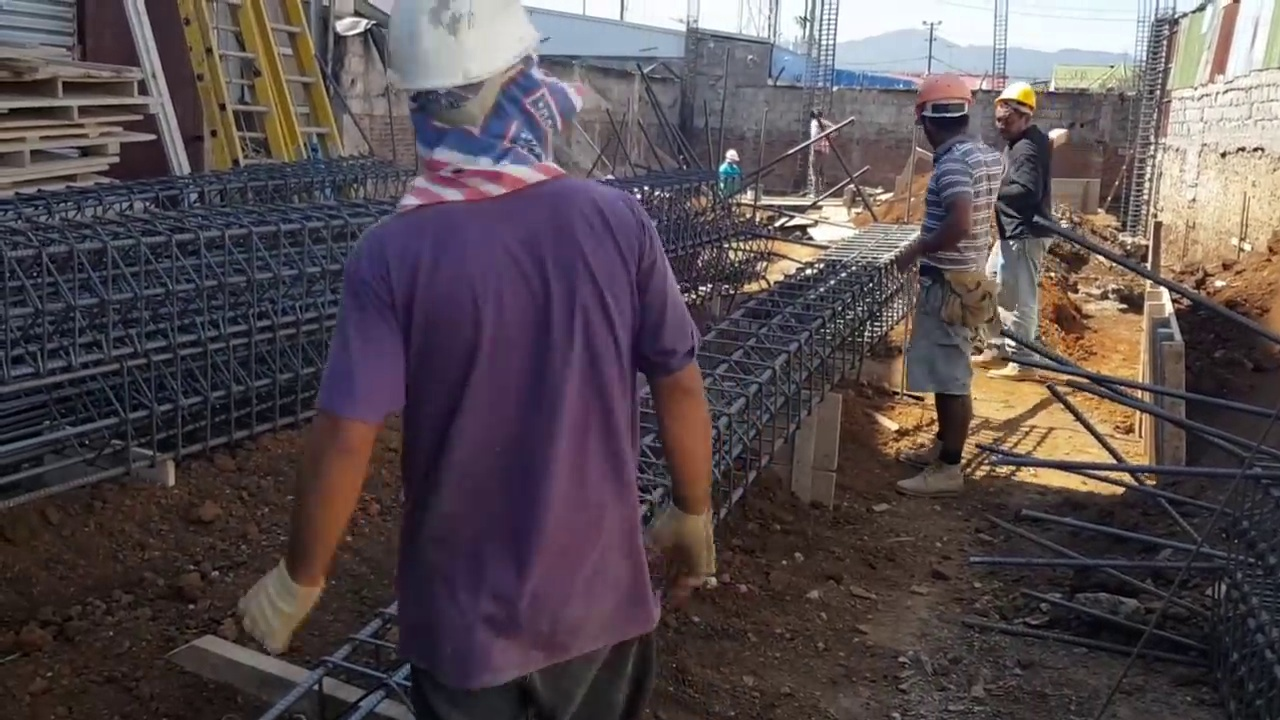helmet: (387, 0, 536, 90), (914, 65, 975, 116), (996, 79, 1036, 110), (725, 150, 739, 162)
helmet-off: (809, 105, 825, 124)
helmet-on: (378, 2, 587, 230), (913, 71, 976, 151), (993, 76, 1037, 141), (723, 150, 740, 167)
person: (293, 1, 716, 719), (901, 78, 998, 511), (989, 68, 1073, 366), (805, 107, 838, 195), (713, 150, 737, 191)
